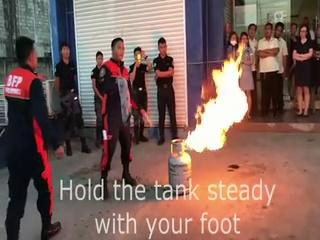Fire: (181, 40, 246, 154)
